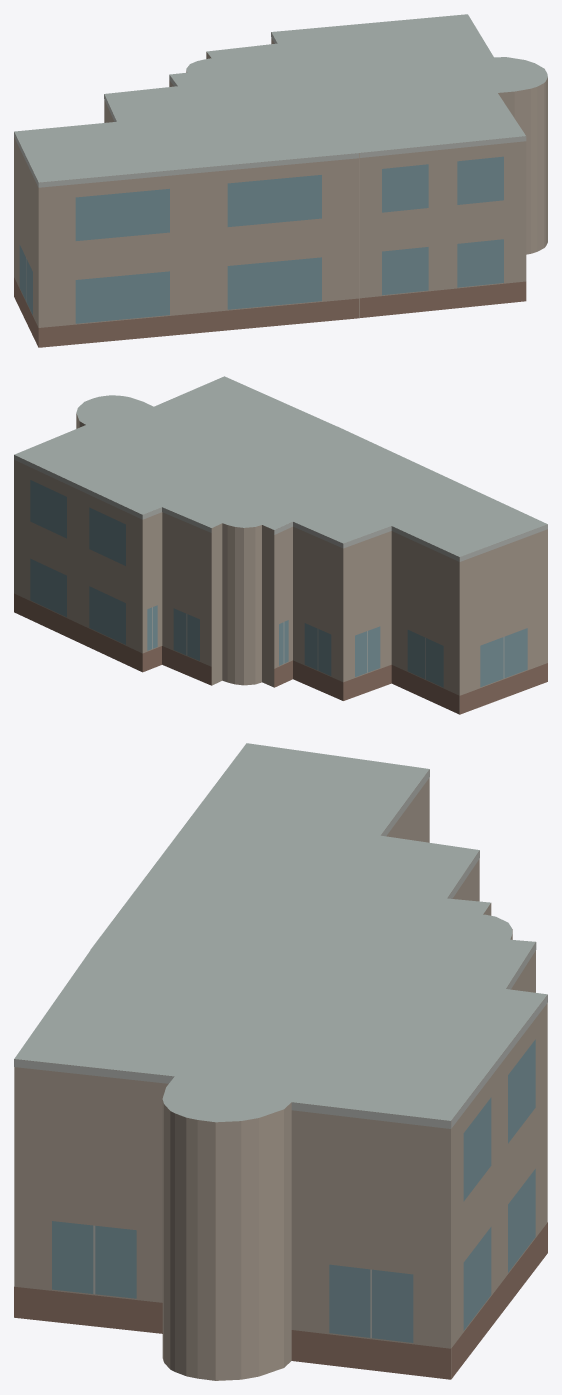
File: survey-upis-32471404.glb
3 views of the same model, one above another, from view 1: azimuth 30°, elevation 25°; view 2: azimuth 150°, elevation 25°; view 3: azimuth 270°, elevation 25° (orthographic). The views are drawn at different scales.
Visible parts, largest first — view 1: survey-upis-32471404.tmp; view 2: survey-upis-32471404.tmp; view 3: survey-upis-32471404.tmp.
Boxes of the visible parts, <box> form: survey-upis-32471404.tmp: <box>14,14,547,347</box>; survey-upis-32471404.tmp: <box>14,376,547,714</box>; survey-upis-32471404.tmp: <box>14,743,547,1380</box>.
Size of the model in its own units: 24.53 by 7.8 by 14.59.
